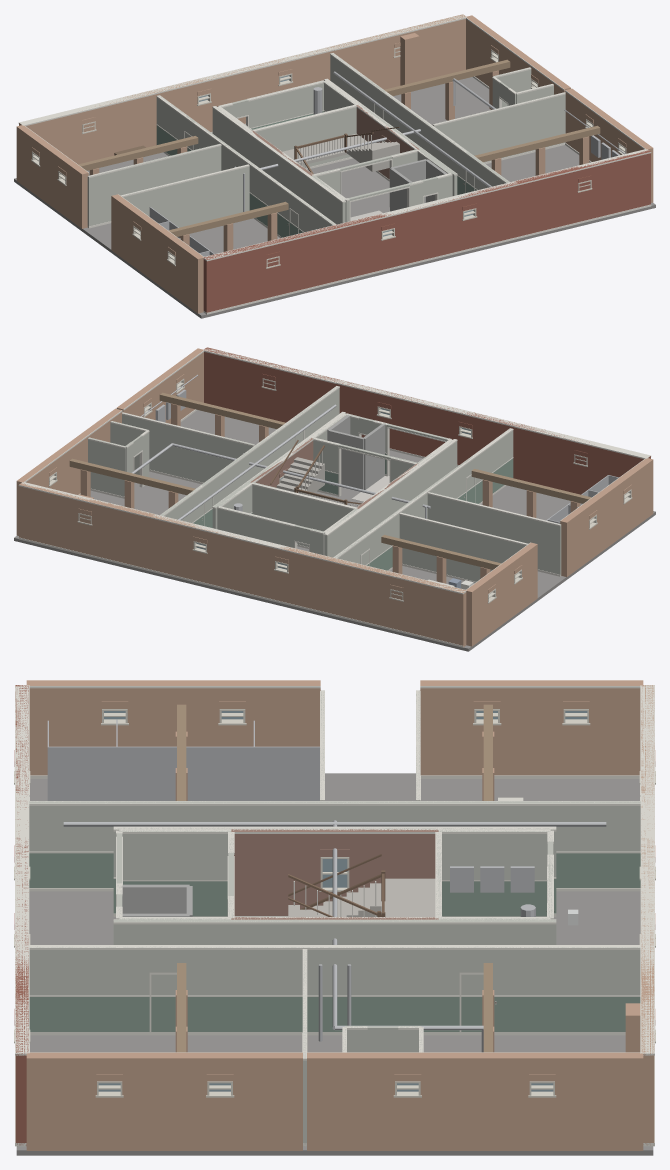
The model's file is floor_b1.glb.
The picture shows the model from 3 angles, top to bottom: view 1: azimuth 30°, elevation 25°; view 2: azimuth 150°, elevation 25°; view 3: azimuth 270°, elevation 25°; orthographic projection. The views are drawn at different scales.
Parts seen in each view (by area): view 1: B1_walls-col, B1_walls_cbrick-col, B1_walls_fbrick-col, B1_trim, B1_slabs-col, B1_furniture_timber-col, B1_furniture_common_brick-col, B1_stairs, B1_furnish_metal, B1_stone_trim-col, B1_walls_conc-col, B1_wainscot (+3 smaller); view 2: B1_walls_cbrick-col, B1_walls-col, B1_walls_fbrick-col, B1_trim, B1_slabs-col, B1_furniture_timber-col, B1_walls_conc-col, B1_furniture_common_brick-col, B1_furnish_metal, B1_stone_trim-col, B1_wainscot, B1_stairs (+3 smaller); view 3: B1_walls_cbrick-col, B1_walls-col, B1_trim, B1_wainscot, B1_slabs-col, B1_furniture_metal-col, B1_walls_brick-col, B1_furnish_metal, B1_furniture_timber-col, B1_stone_trim-col, B1_stairs, B1_walls_fbrick-col (+4 smaller).
Boxes of the visible parts, left/top/right/bottom form: B1_walls-col: left=87, top=53, right=565, bottom=232; B1_walls_cbrick-col: left=16, top=14, right=653, bottom=313; B1_walls_fbrick-col: left=203, top=150, right=650, bottom=312; B1_trim: left=18, top=14, right=651, bottom=314; B1_slabs-col: left=14, top=77, right=655, bottom=318; B1_furniture_timber-col: left=78, top=59, right=600, bottom=236; B1_furniture_common_brick-col: left=89, top=70, right=589, bottom=251; B1_stairs: left=283, top=133, right=399, bottom=171; B1_furnish_metal: left=234, top=71, right=625, bottom=211; B1_stone_trim-col: left=31, top=47, right=626, bottom=268; B1_walls_conc-col: left=390, top=159, right=447, bottom=211; B1_wainscot: left=156, top=111, right=476, bottom=237; B1_walls_cbrick-col: left=16, top=348, right=653, bottom=647; B1_walls-col: left=88, top=386, right=561, bottom=581; B1_walls_fbrick-col: left=204, top=347, right=650, bottom=494; B1_trim: left=18, top=347, right=651, bottom=647; B1_slabs-col: left=14, top=410, right=655, bottom=651; B1_furniture_timber-col: left=69, top=392, right=591, bottom=569; B1_walls_conc-col: left=327, top=414, right=385, bottom=489; B1_furniture_common_brick-col: left=80, top=403, right=580, bottom=583; B1_furnish_metal: left=131, top=374, right=430, bottom=520; B1_stone_trim-col: left=48, top=378, right=632, bottom=603; B1_wainscot: left=193, top=453, right=513, bottom=570; B1_stairs: left=276, top=457, right=324, bottom=495; B1_walls_cbrick-col: left=26, top=680, right=655, bottom=1150; B1_walls-col: left=29, top=690, right=640, bottom=1144; B1_trim: left=15, top=685, right=654, bottom=1146; B1_wainscot: left=29, top=853, right=640, bottom=1031; B1_slabs-col: left=16, top=773, right=653, bottom=1155; B1_furniture_metal-col: left=47, top=719, right=534, bottom=892; B1_walls_brick-col: left=231, top=829, right=438, bottom=919; B1_furnish_metal: left=63, top=820, right=606, bottom=1052; B1_furniture_timber-col: left=177, top=704, right=492, bottom=1052; B1_stone_trim-col: left=14, top=709, right=655, bottom=1097; B1_stairs: left=288, top=878, right=435, bottom=916; B1_walls_fbrick-col: left=14, top=685, right=28, bottom=1145.
Size of what is drawn, in the model's own units: 28.1 by 3.9 by 20.1.
